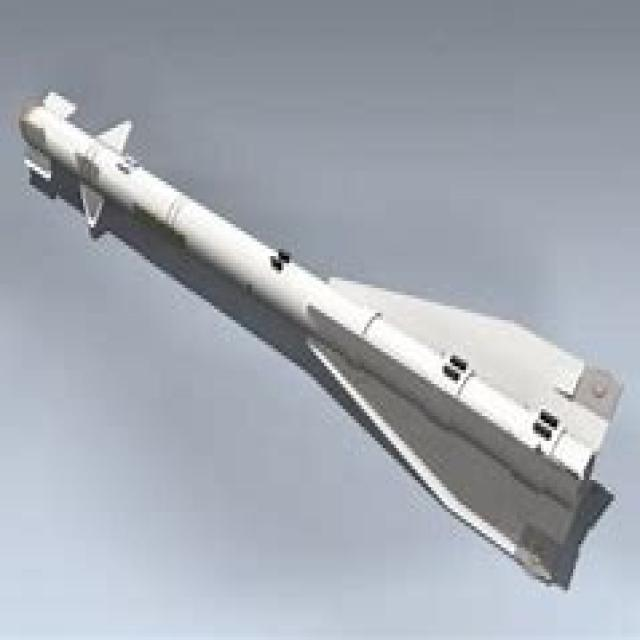missile: (14, 87, 623, 594)
